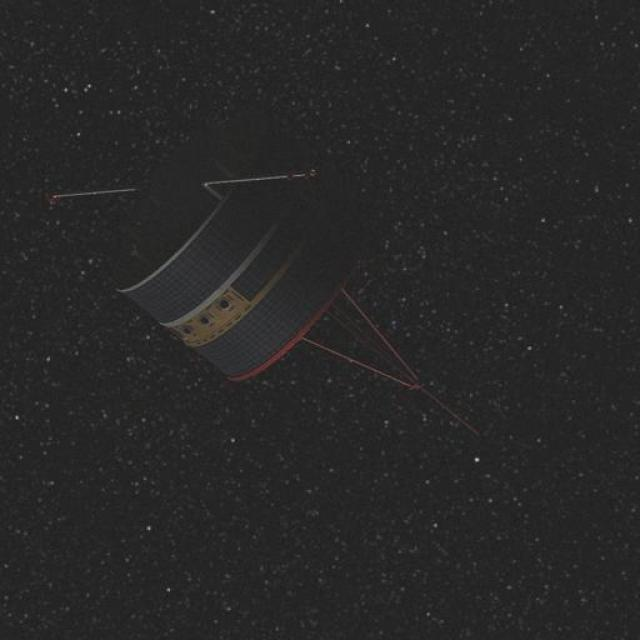double_start: (28, 127, 488, 459)
